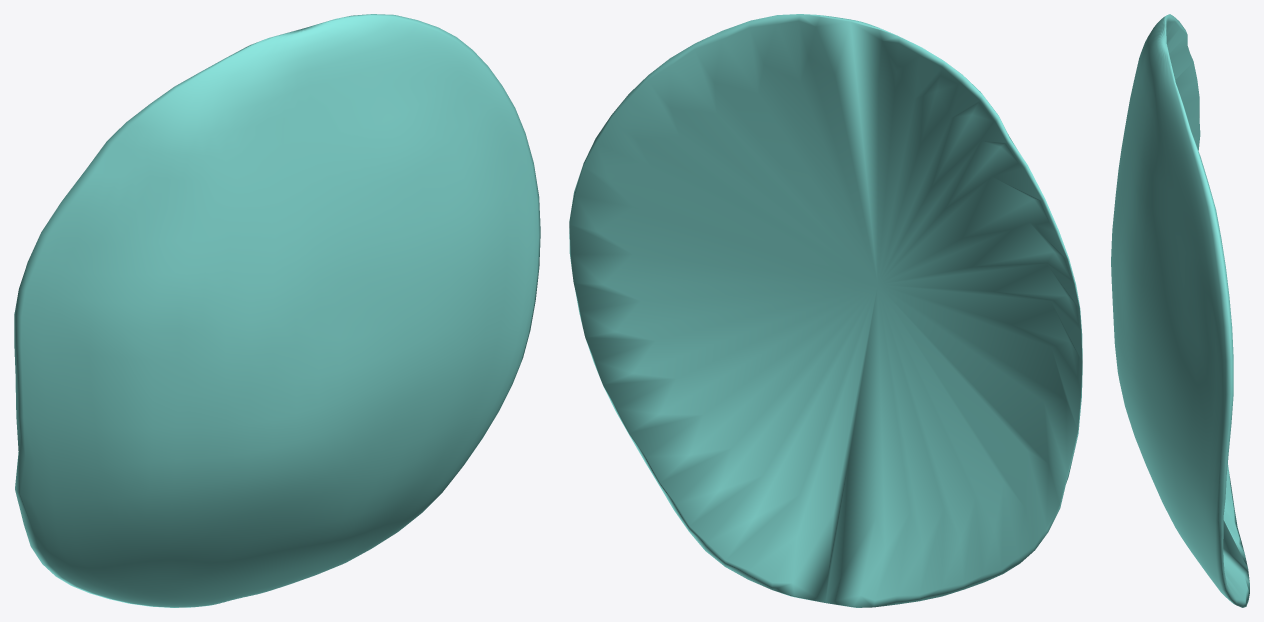
Rendered from Hauptchara_bauch.fbx.
3 renders of one model, left to right at view 1: azimuth 30°, elevation 25°; view 2: azimuth 150°, elevation 25°; view 3: azimuth 270°, elevation 25°, orthographic. The views are drawn at different scales.
Visible parts, largest first — view 1: Bauch; view 2: Bauch; view 3: Bauch.
Boxes of the visible parts, bbox=[...] form: Bauch: bbox=[14, 14, 540, 607]; Bauch: bbox=[569, 14, 1082, 607]; Bauch: bbox=[1111, 14, 1249, 607].
Size of the model in its own units: 54.68 by 57.65 by 13.57.
